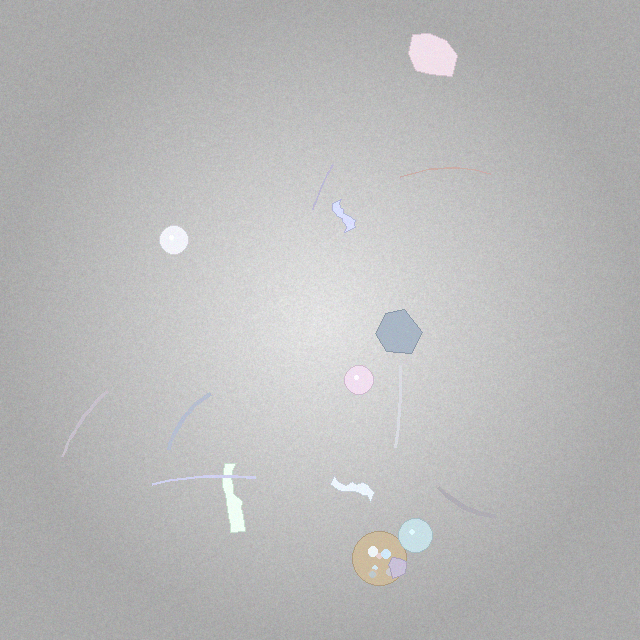fiber: (59, 387, 111, 460), (164, 390, 215, 454), (434, 482, 501, 522), (149, 473, 258, 487), (398, 166, 492, 180), (391, 362, 405, 451), (310, 163, 335, 212)
film: (222, 463, 245, 532), (331, 476, 374, 502), (333, 199, 355, 233)
foam: (352, 531, 406, 585)
fragment: (408, 34, 458, 77), (376, 310, 423, 353), (389, 557, 407, 578)
pellet: (399, 519, 432, 552), (345, 366, 374, 395), (160, 226, 189, 255)
